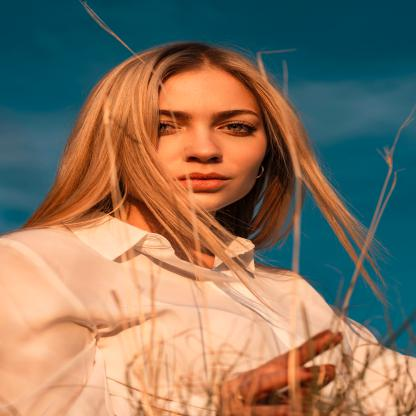Eye: (214, 121, 259, 137), (159, 121, 184, 136)
Mouth: (177, 171, 232, 190)
Nose: (181, 129, 224, 163)
